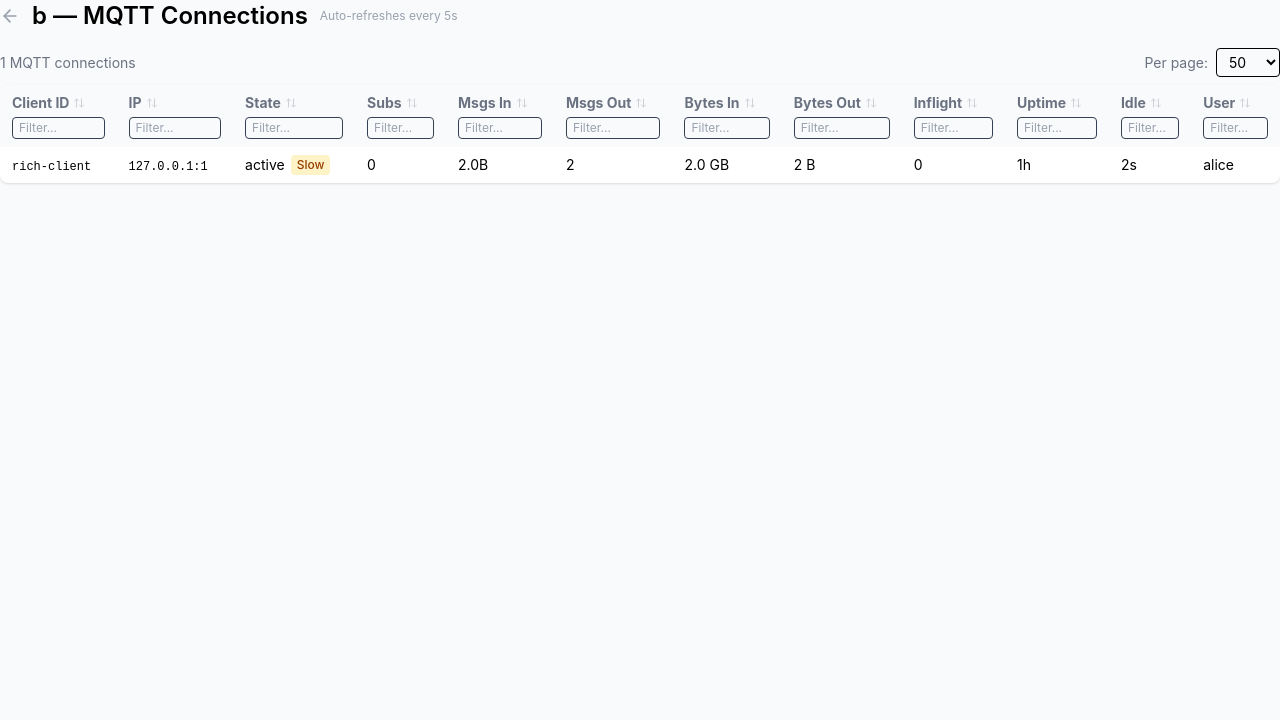
Test case: pagination, modal, and administration interactions › sorts and inspects a fully populated MQTT client
Expected: the text "rich-client" is shown, [12,160,91,174]
Click the column heading "Client ID" at (58, 116), box [0,85,116,147]
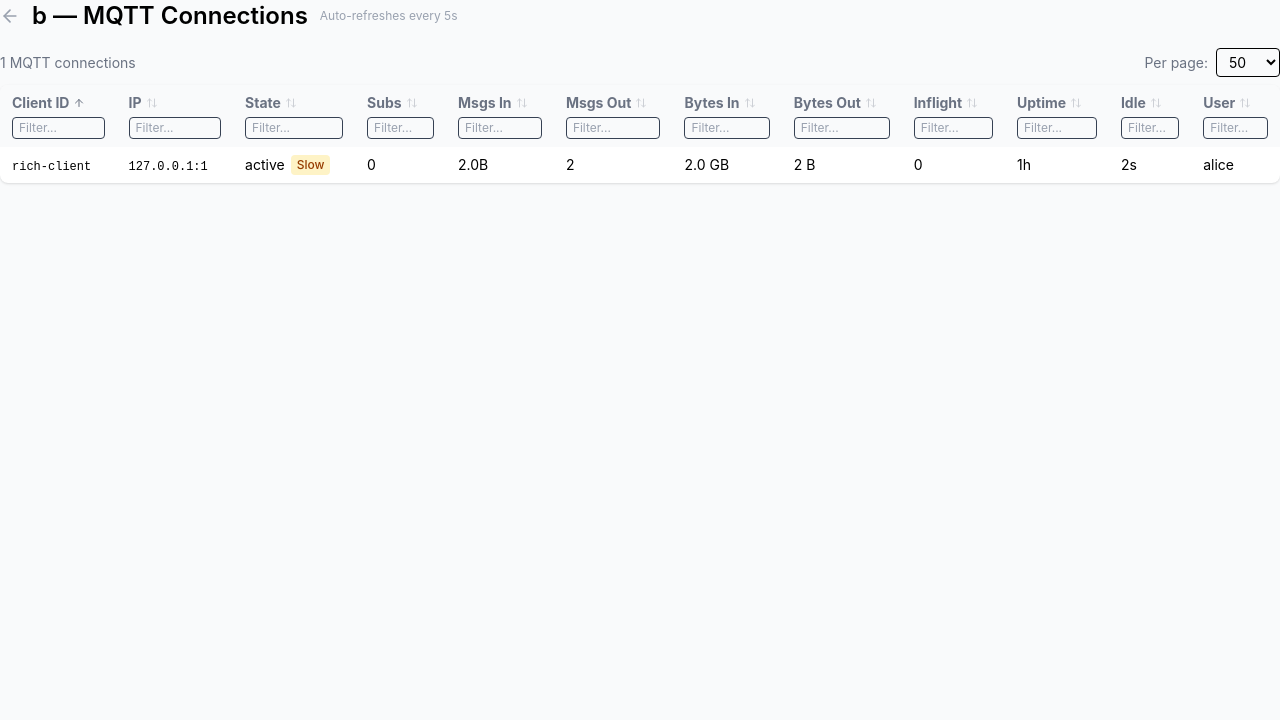
Click the column heading "Client ID" at (58, 116), box [0,85,116,147]
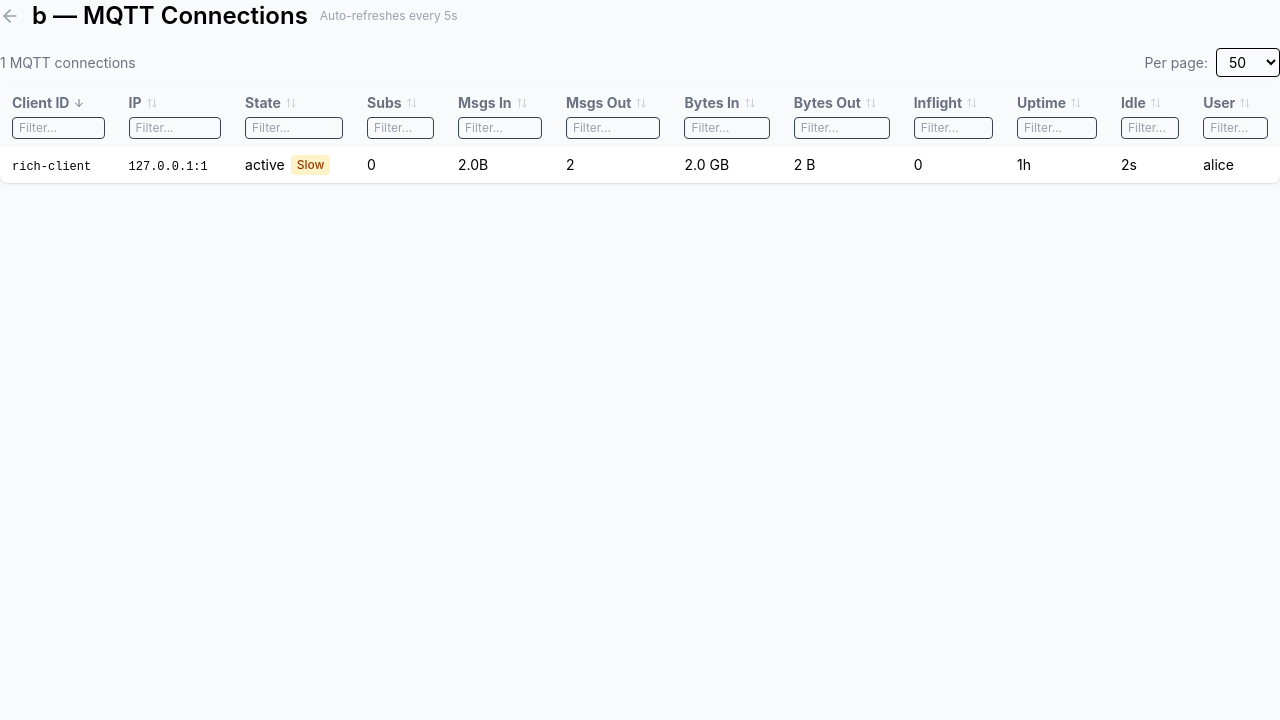
Click the text "rich-client" at (52, 167), box [12,160,91,174]
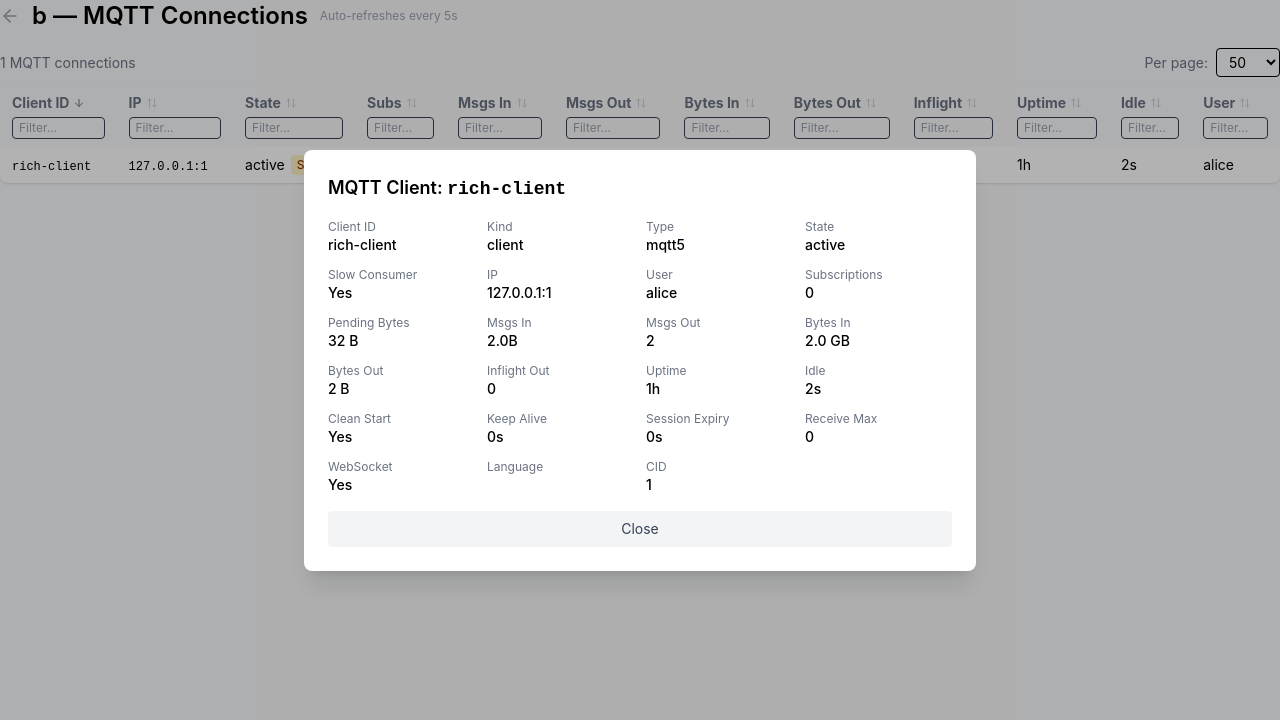
Expected: the heading "MQTT Client: rich-client" is shown, [328,176,566,198]
Expected: the text "mqtt5" is shown, [646,236,685,252]
Click the button "Close" at (640, 528), box [328,510,952,546]
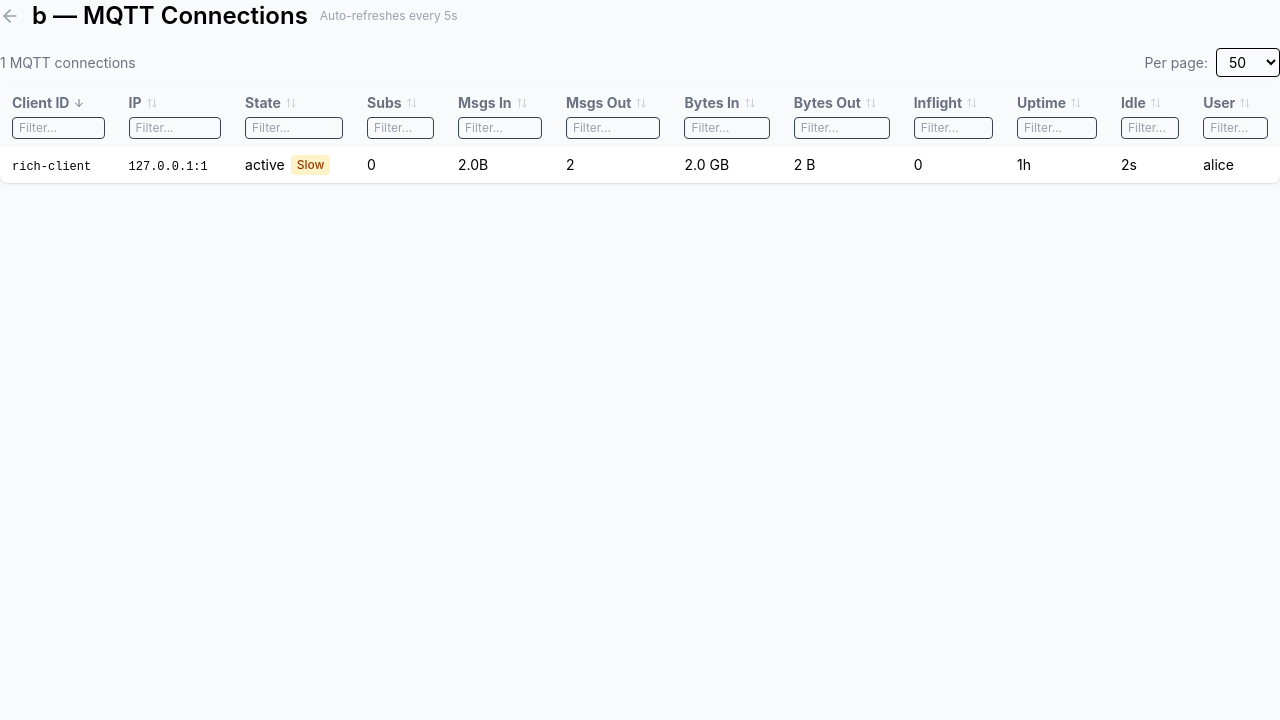
Expected: the heading "MQTT Client:" is gone
